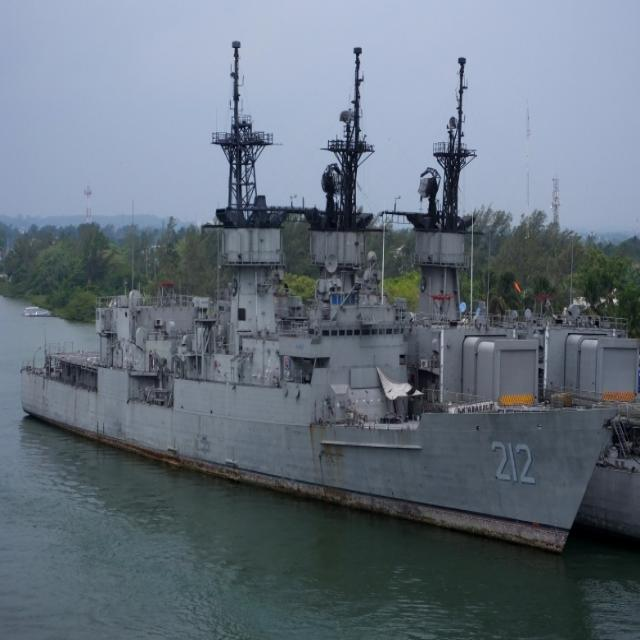Fragata: (18, 33, 625, 566)
